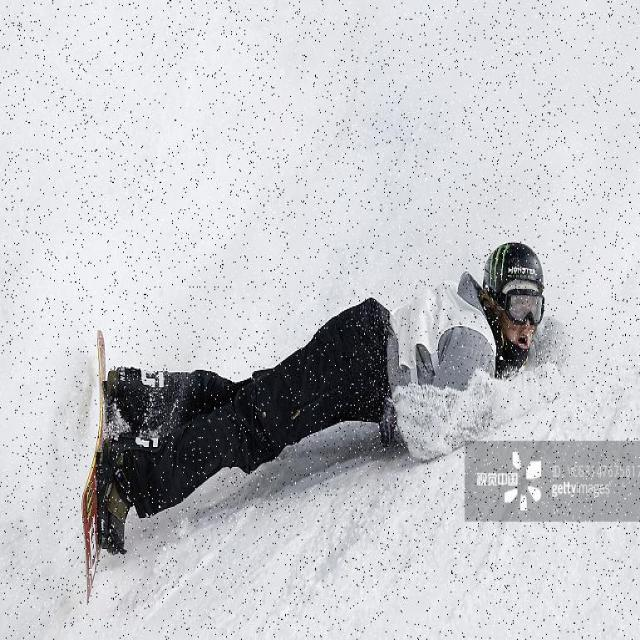fall: (95, 240, 542, 522)
